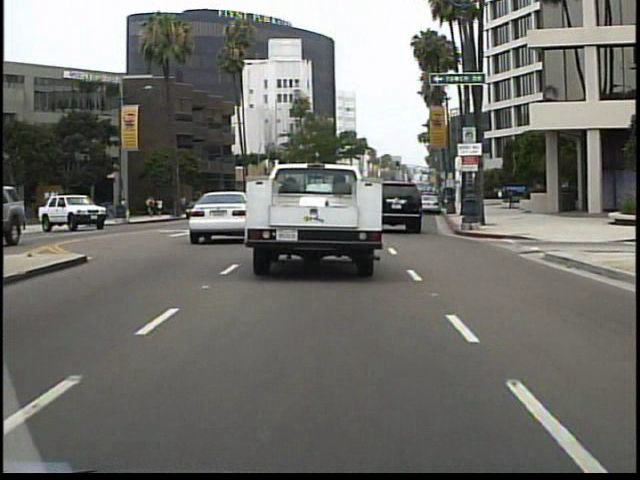person: (11, 193, 33, 236), (74, 190, 91, 227), (67, 196, 83, 230), (114, 190, 130, 221)
